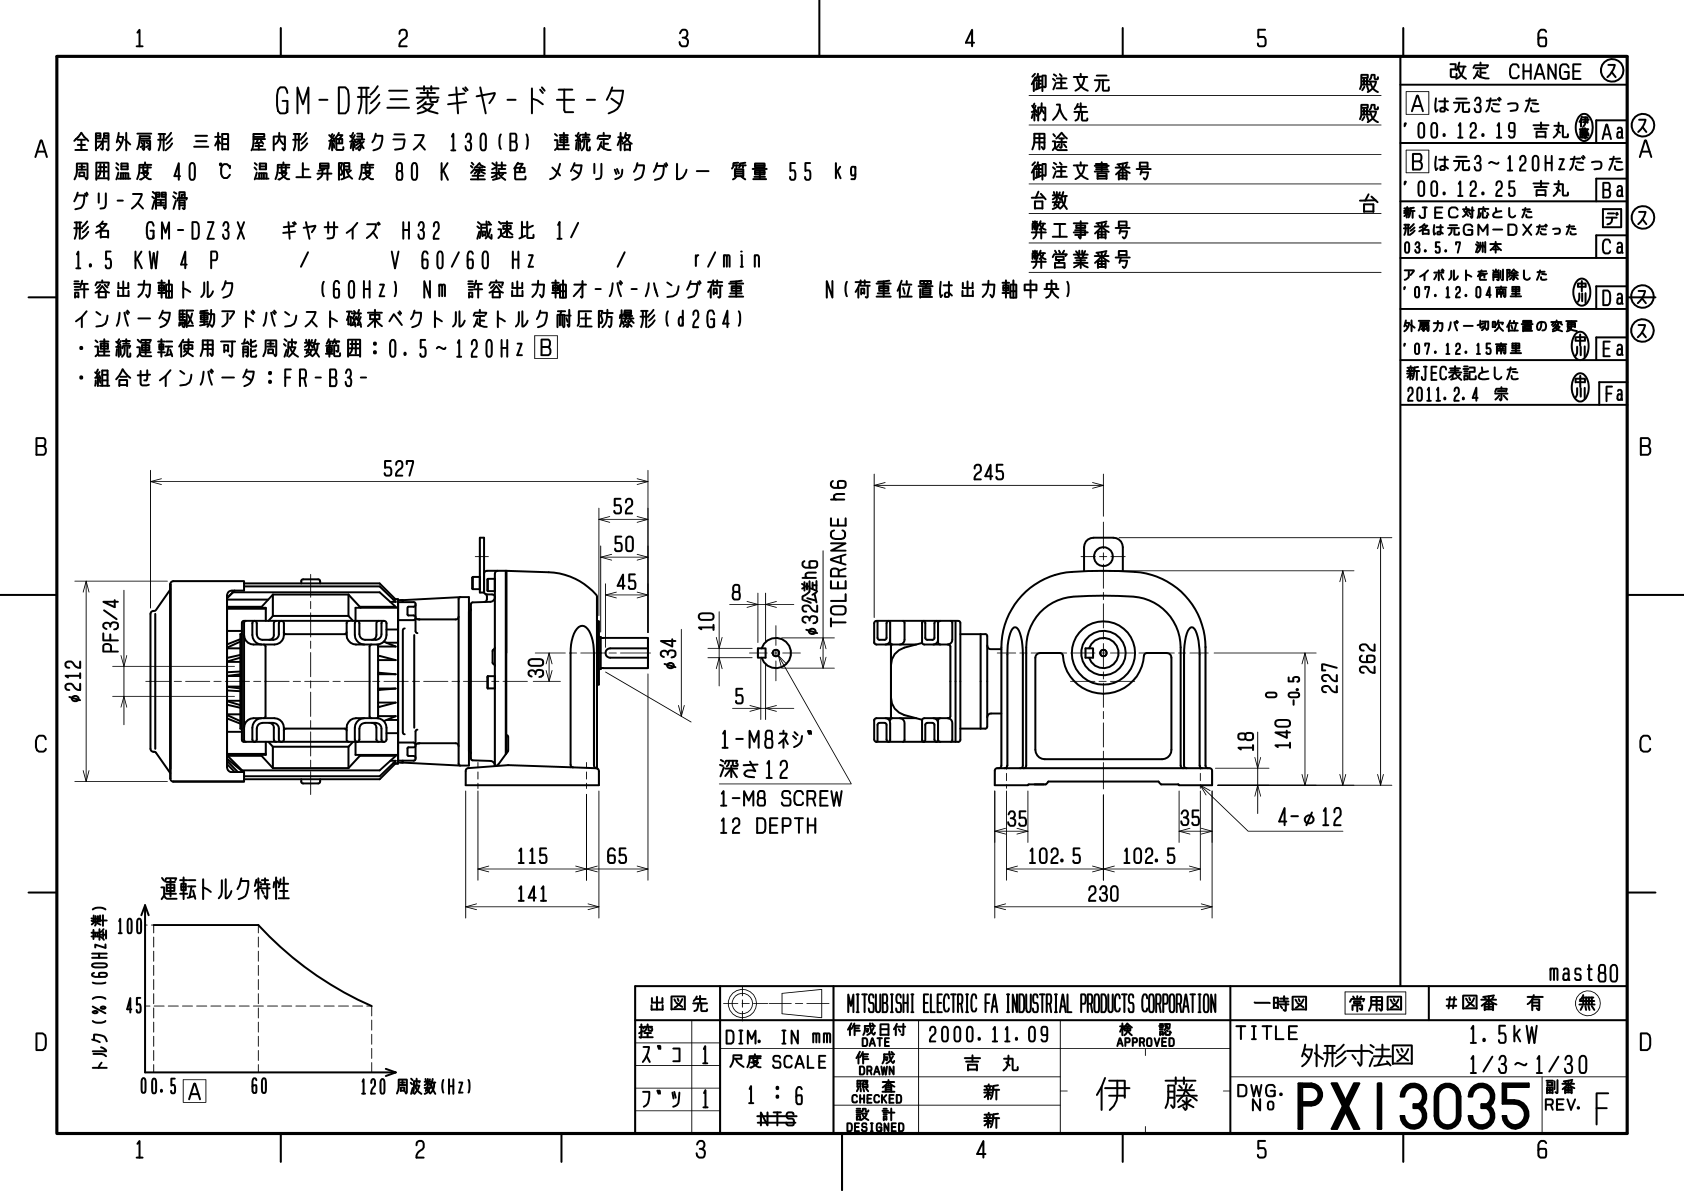GM_D_制御屋内_三相_脚: (63, 427, 1395, 969)
